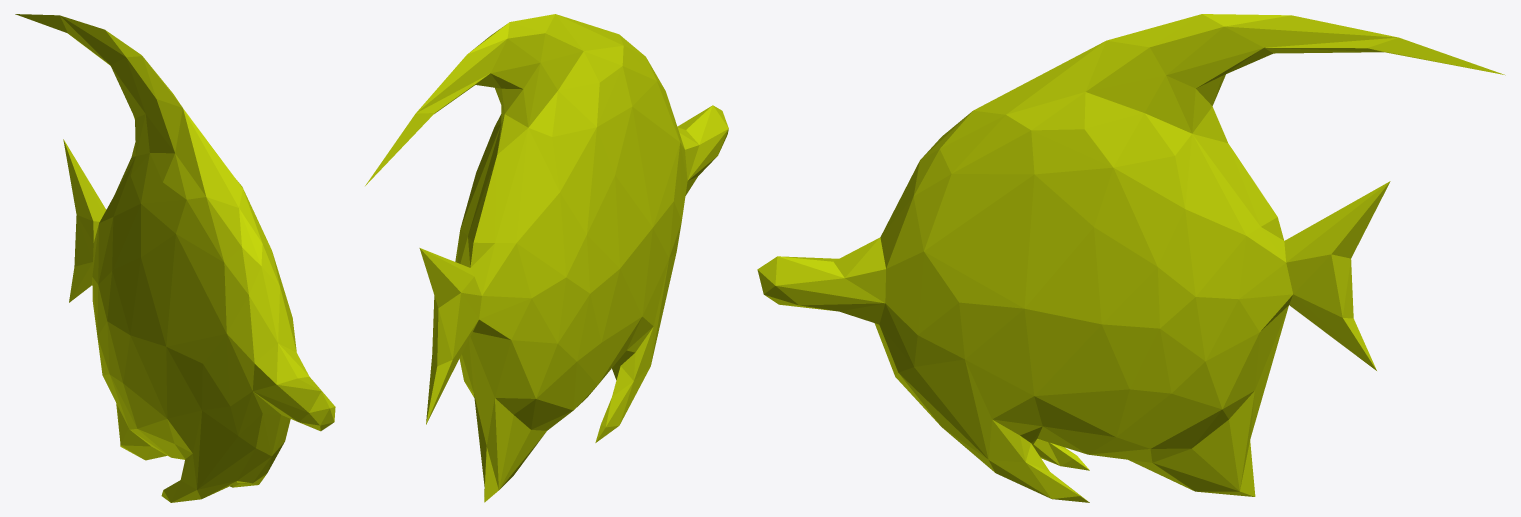
Rendered from Fish_05.fbx.
The picture shows the model from 3 angles, left to right: view 1: azimuth 30°, elevation 25°; view 2: azimuth 150°, elevation 25°; view 3: azimuth 270°, elevation 25°; orthographic projection. The views are drawn at different scales.
Parts seen in each view (by area): view 1: Fish_05; view 2: Fish_05; view 3: Fish_05.
Boxes of the visible parts, x1,y1,x2,y2 form: Fish_05: (15, 14, 335, 502); Fish_05: (365, 14, 728, 502); Fish_05: (757, 14, 1505, 502).
Bounding box in the file's own units: 68.72 × 244 × 343.
